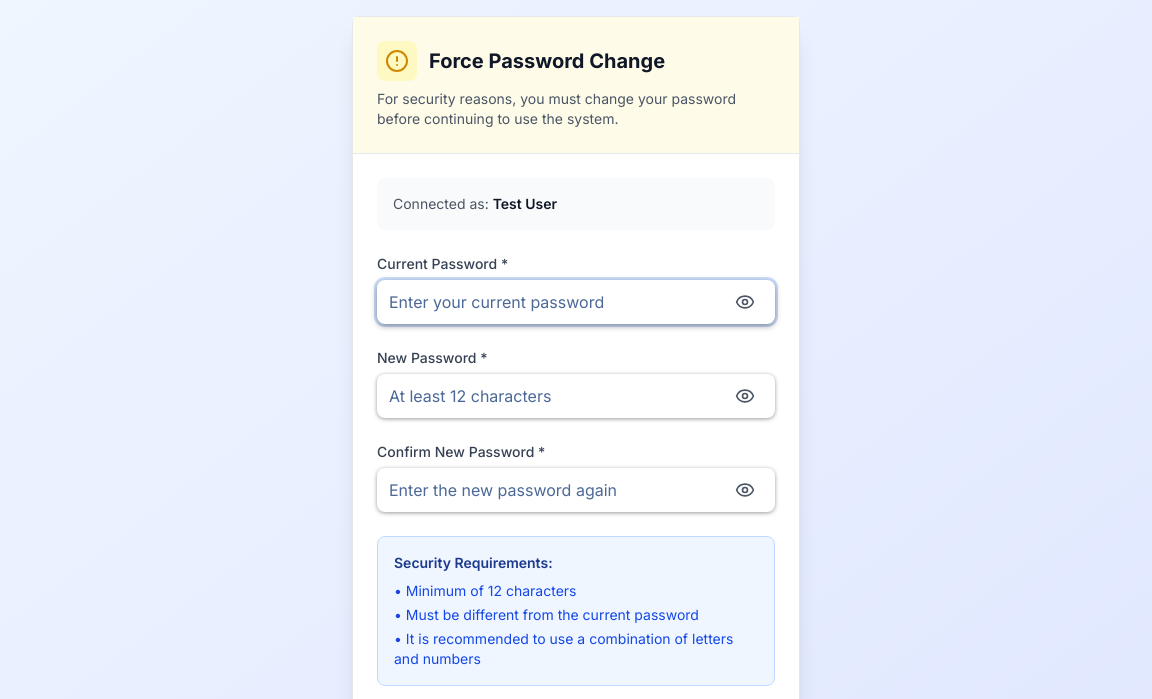
it: ForcePasswordChangePage › Rate limiting error messages in Portuguese › should display lockout message in Portuguese
This screenshot has width=1152, height=699.
Type "WrongPassword123" into the password field with placeholder "Enter your current password" at (576, 302), box [377,280,775,324]
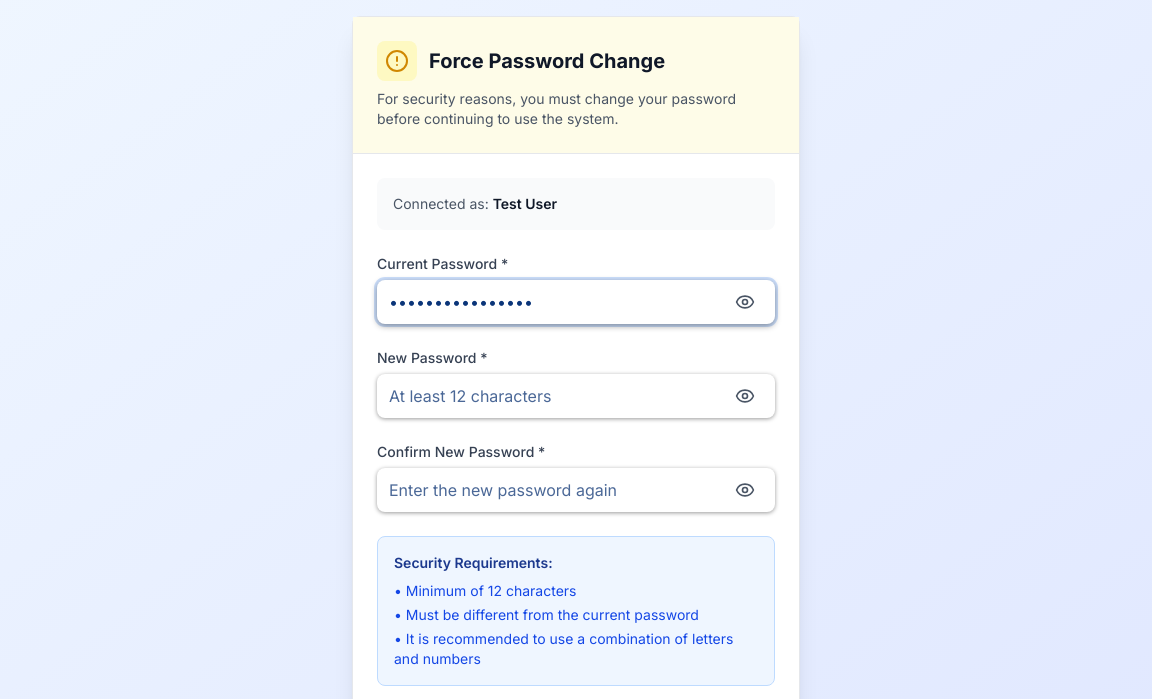
Type "NewValidPassword123" into the password field with placeholder "At least 12 characters" at (576, 396), box [377,374,775,418]
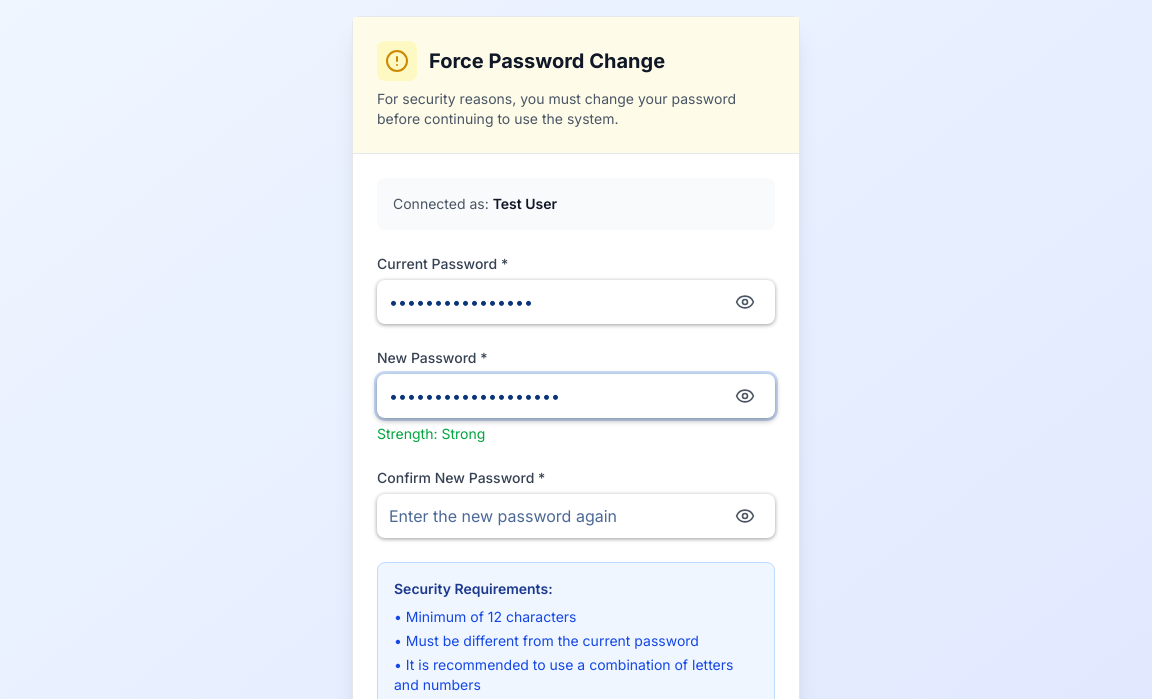
Type "NewValidPassword123" into the password field with placeholder "Enter the new password again" at (576, 516), box [377,494,775,538]
(page scrolled)
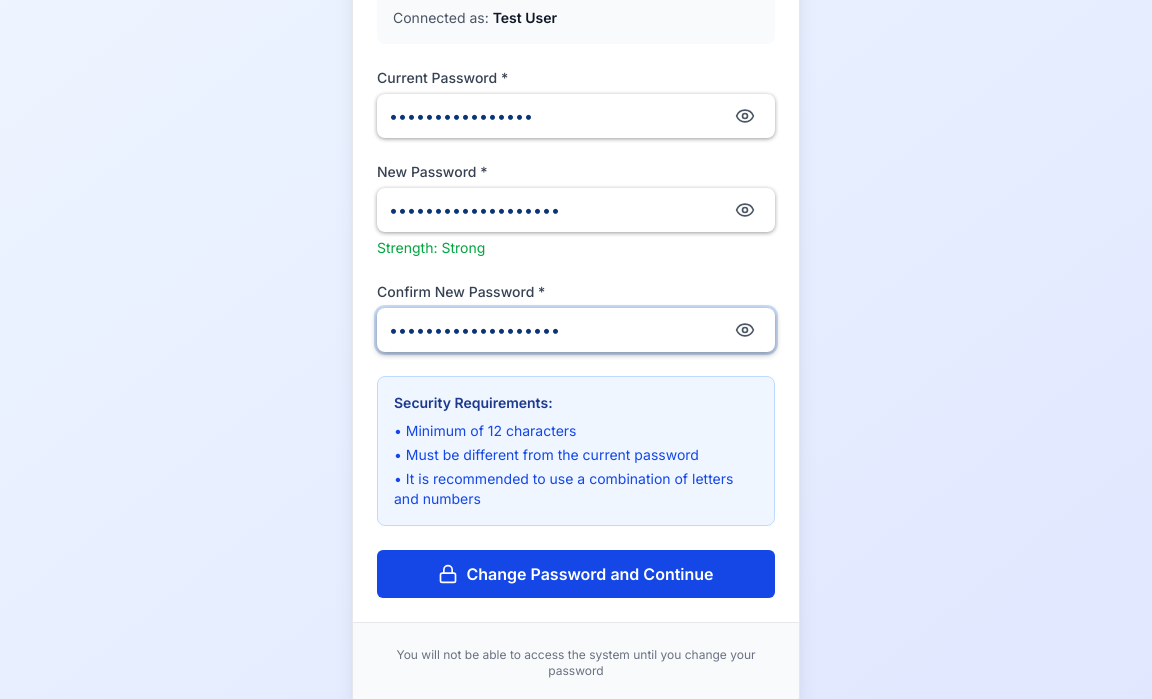
Click the button "Change Password and Continue" at (576, 574), box [377,550,775,598]
(page scrolled)
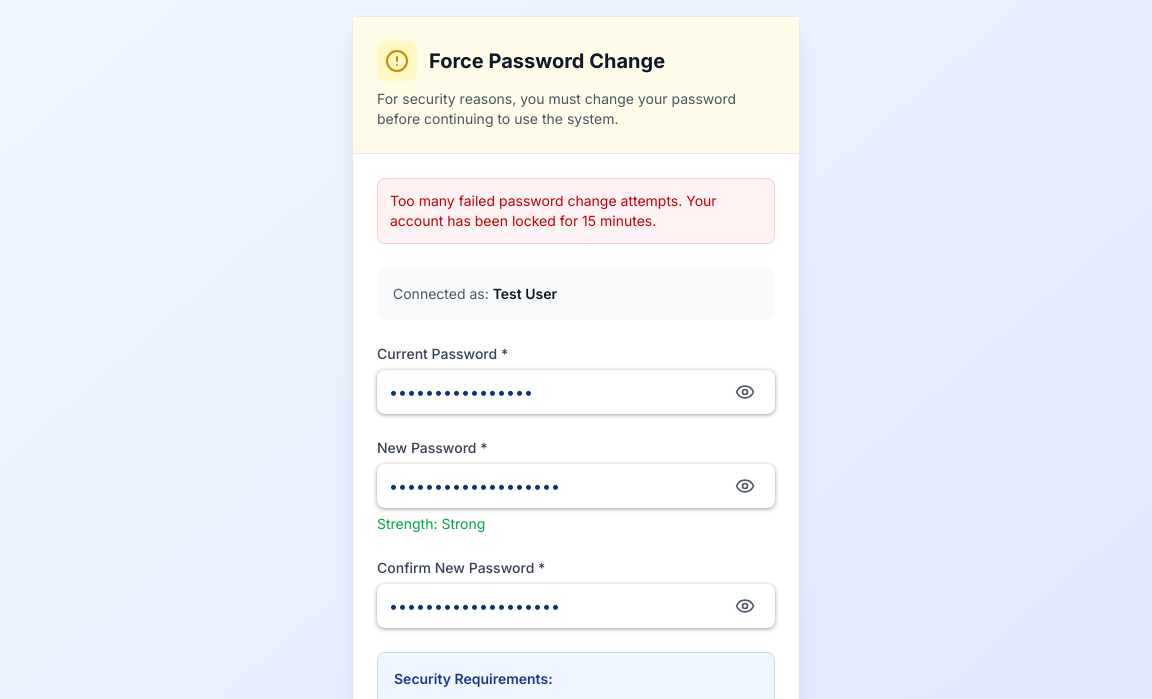
Check: the text "Too many failed password change attempts. Your account has been locked for 15 minutes." is shown, box [390,192,717,229]
